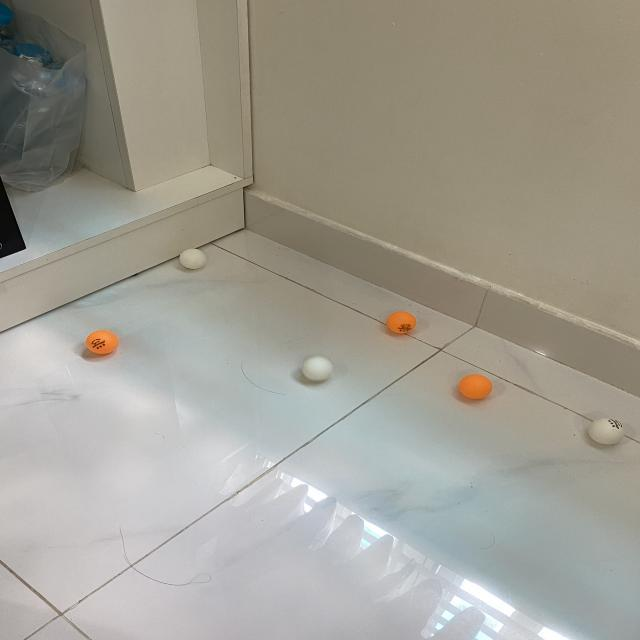ping-pong-ball: (590, 417, 626, 445), (85, 330, 122, 356), (459, 374, 492, 400), (302, 356, 334, 381), (387, 311, 418, 335), (181, 248, 209, 270)
